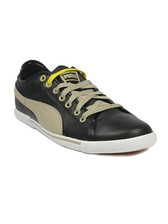shoes: (13, 58, 158, 156)
